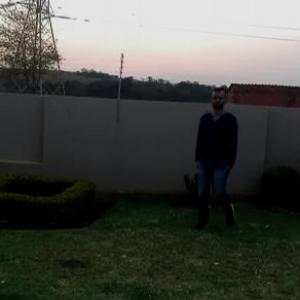follow: (191, 85, 239, 233)
